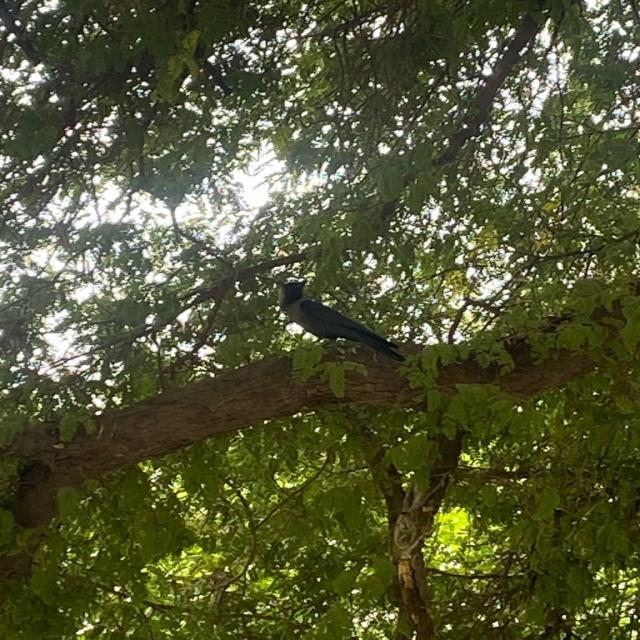bird: (274, 278, 412, 369)
